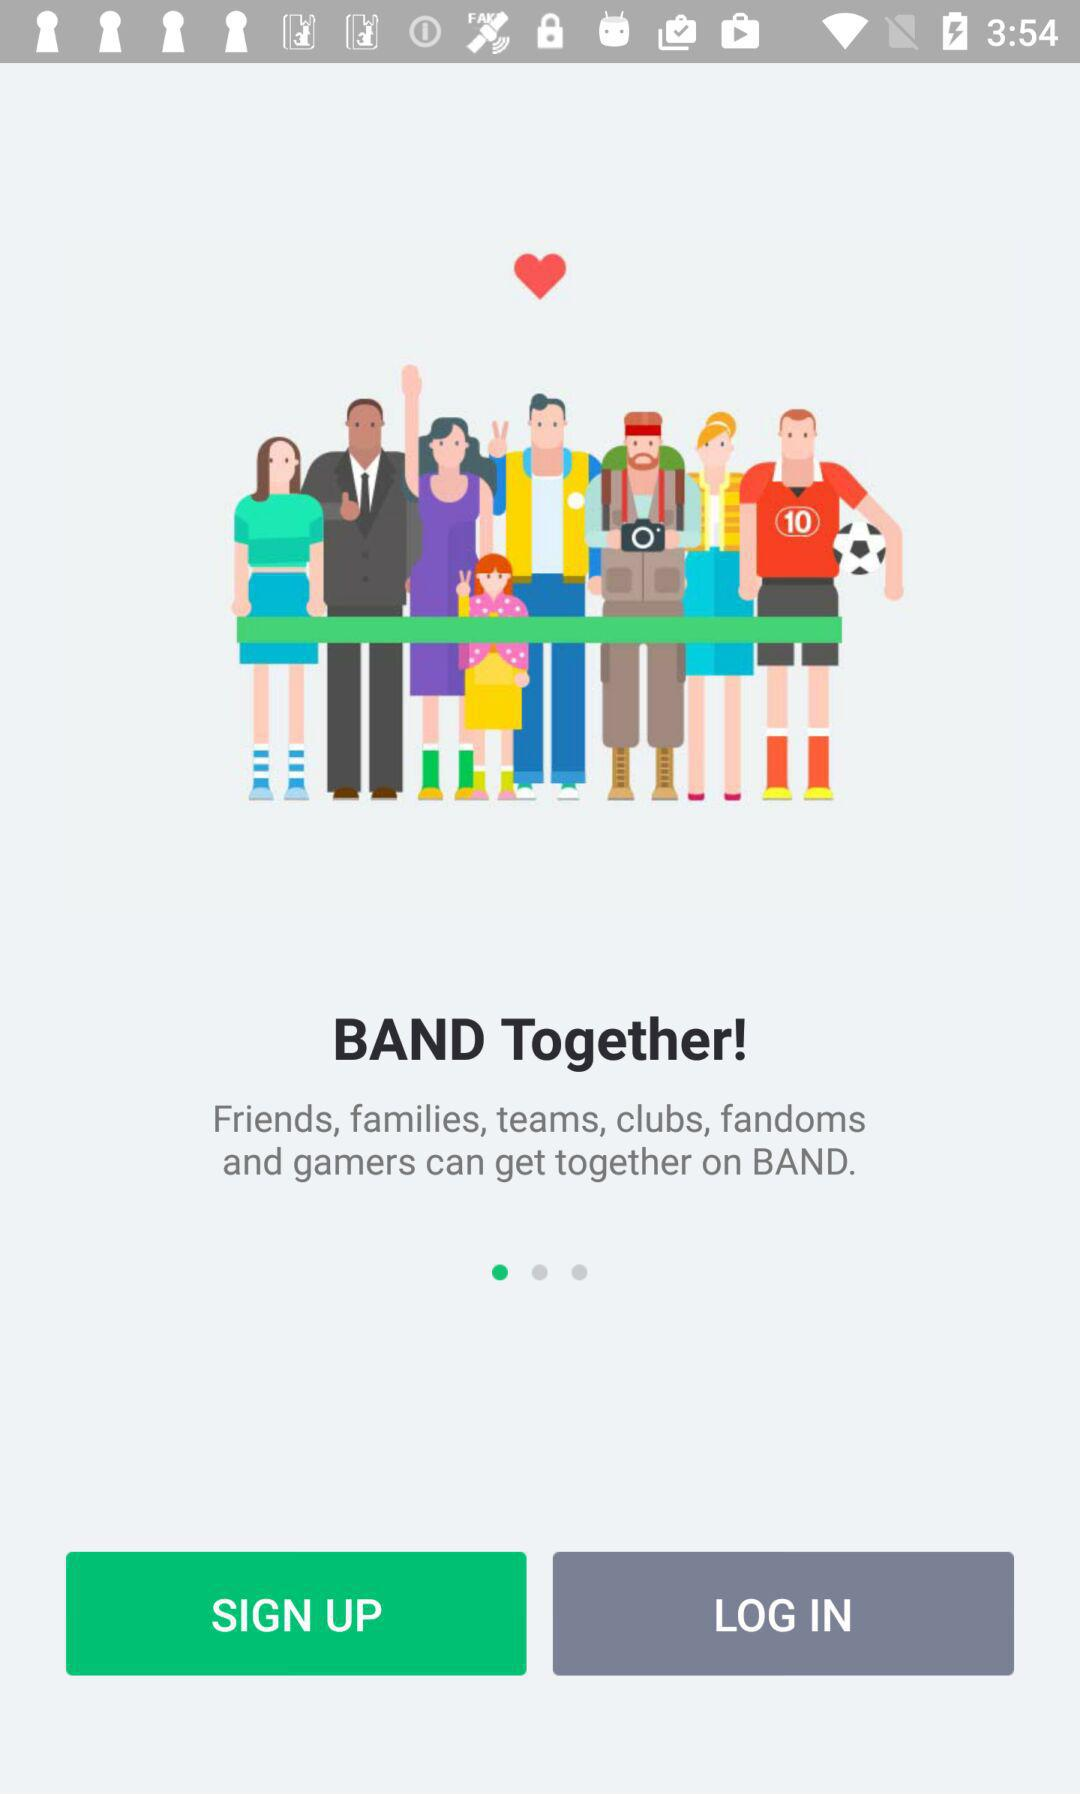Image: (231, 251, 904, 803)
PageIndicator: (489, 1263, 591, 1283)
Text: (213, 1102, 869, 1187), (334, 1014, 749, 1075)
TextButton: (67, 1551, 528, 1677), (552, 1551, 1015, 1676)
UpperTaskBar: (1, 1, 1080, 64)
